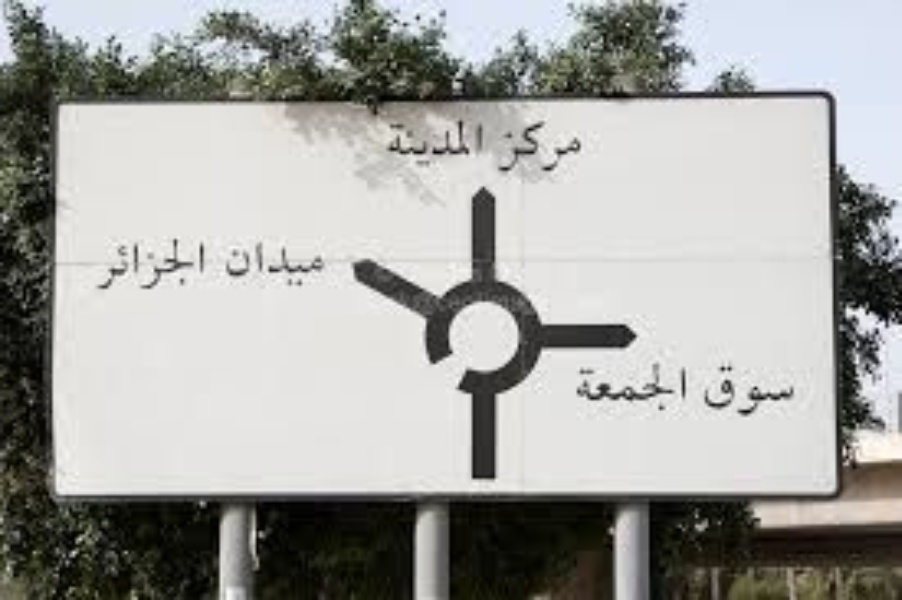text: (97, 233, 112, 296), (113, 233, 128, 296), (129, 233, 144, 296), (145, 233, 160, 296), (161, 233, 176, 296), (177, 233, 192, 296), (193, 233, 208, 296), (785, 361, 801, 420), (705, 361, 720, 420), (721, 361, 736, 420), (737, 361, 752, 420), (753, 361, 768, 420), (769, 361, 784, 420), (593, 355, 608, 414), (609, 355, 624, 414), (625, 355, 640, 414), (641, 355, 656, 414), (657, 355, 672, 414), (673, 355, 688, 414), (578, 355, 592, 414), (513, 119, 528, 174), (529, 119, 544, 174), (545, 119, 560, 174), (561, 119, 576, 174), (225, 237, 240, 289), (241, 237, 256, 289), (257, 237, 272, 289), (273, 237, 288, 289), (289, 237, 304, 289), (305, 237, 320, 289), (401, 115, 416, 164), (417, 115, 432, 164), (433, 115, 448, 164), (449, 115, 464, 164), (465, 115, 480, 164), (502, 119, 512, 174), (209, 233, 217, 296), (391, 115, 400, 164), (481, 115, 489, 164), (577, 119, 584, 174), (689, 355, 693, 414), (321, 237, 325, 289), (702, 361, 704, 420)
